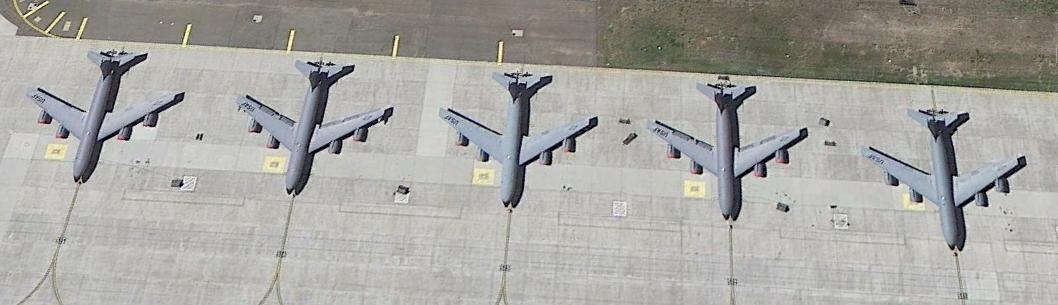KC-135: (863, 99, 1026, 257), (236, 55, 393, 197), (649, 81, 808, 221), (442, 67, 597, 205), (31, 45, 181, 186)
